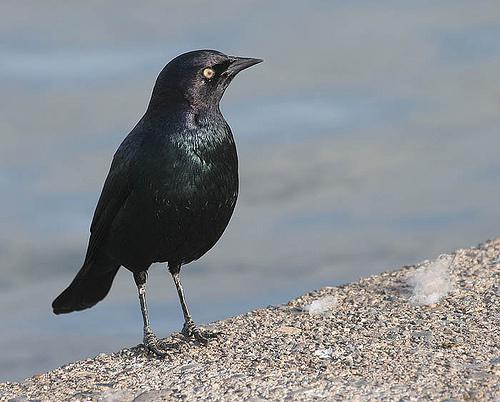009.Brewer_Blackbird: (50, 49, 264, 358)
